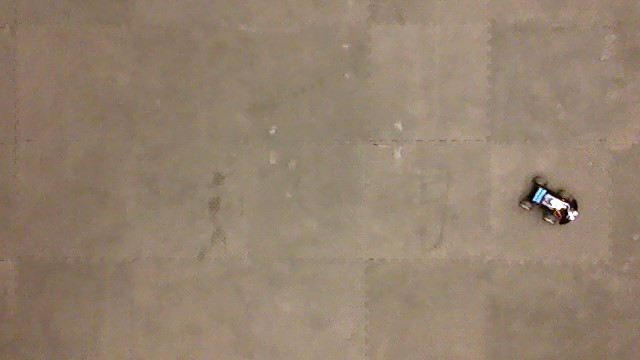Agent: (517, 175, 581, 226)
